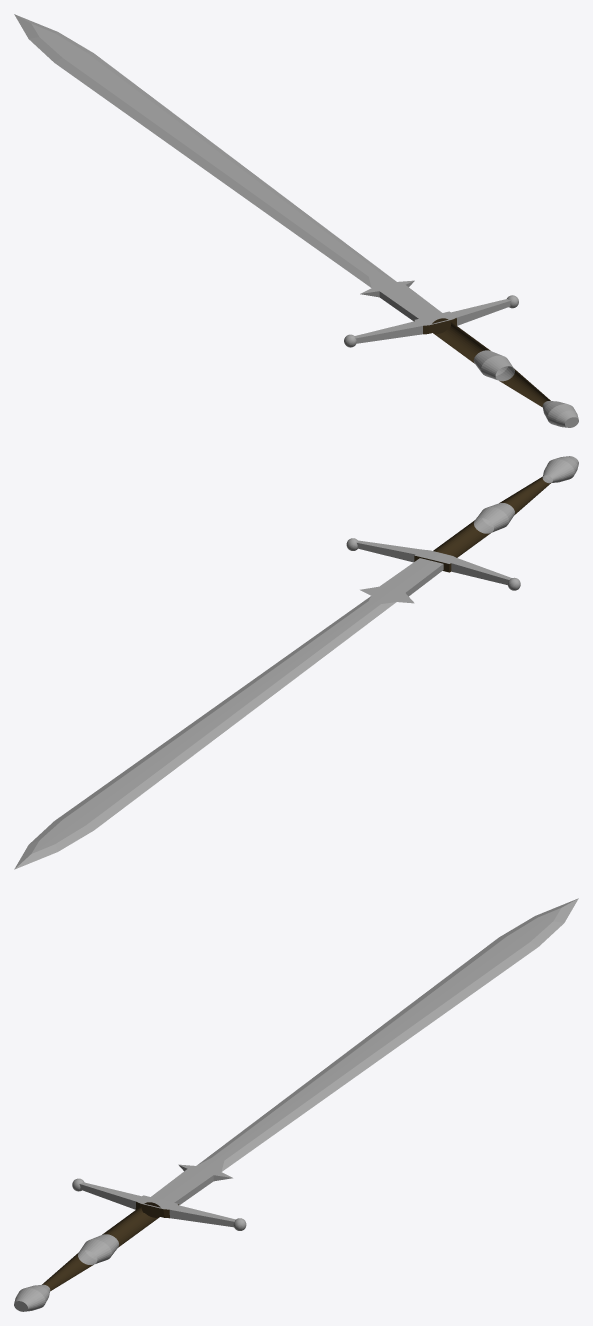
File: claymore (1).fbx
3 views of the same model, one above another, from view 1: azimuth 30°, elevation 25°; view 2: azimuth 150°, elevation 25°; view 3: azimuth 330°, elevation 25° (orthographic).
Visible parts, largest first — view 1: claymore 2; view 2: claymore 2; view 3: claymore 2.
Part boxes in pixels (left/top/right/bottom): claymore 2: left=14, top=14, right=578, bottom=427; claymore 2: left=14, top=456, right=578, bottom=869; claymore 2: left=14, top=898, right=578, bottom=1311.
Size of the model in its own units: 174 by 19.75 by 976.
